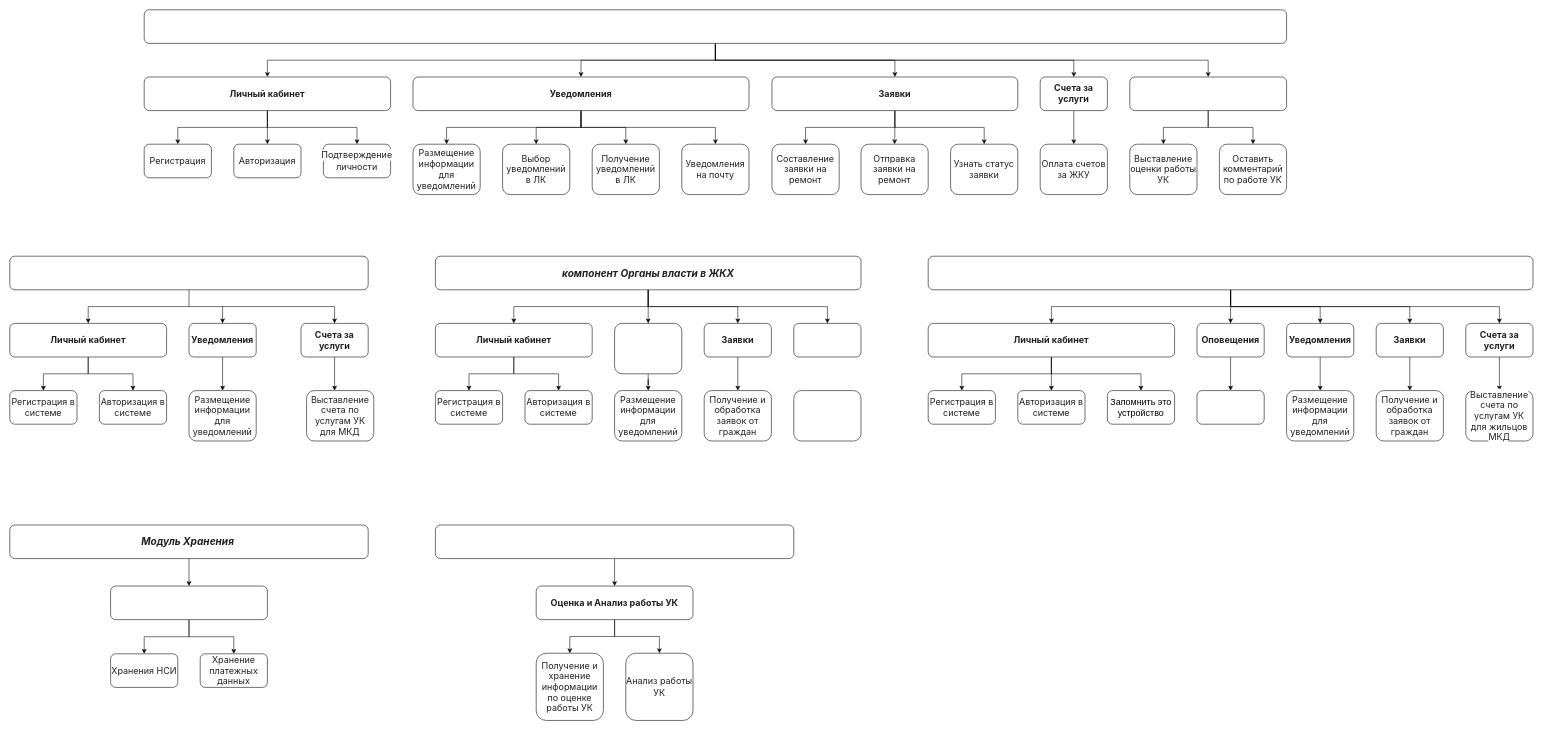
The diagram is 1543 pixels wide and 730 high, and some of its shapes have lost their labels. The shapes that lost their labels are listed below. From the top down, each one's centre as x and y in pixels, then its label:
(715,26): компонент Жилец
(1208,93): Оценка работы УК
(188,273): компонент Ресурсоснабжающие организации
(1230,273): компонент УК
(648,348): Размещение нормативно-справочной информации
(827,340): Аналитика УК
(827,415): Получение аналитических даных по работе УК
(1230,407): Настройка оповещений
(614,541): Модуль Аналитики
(188,602): Хранение данных
